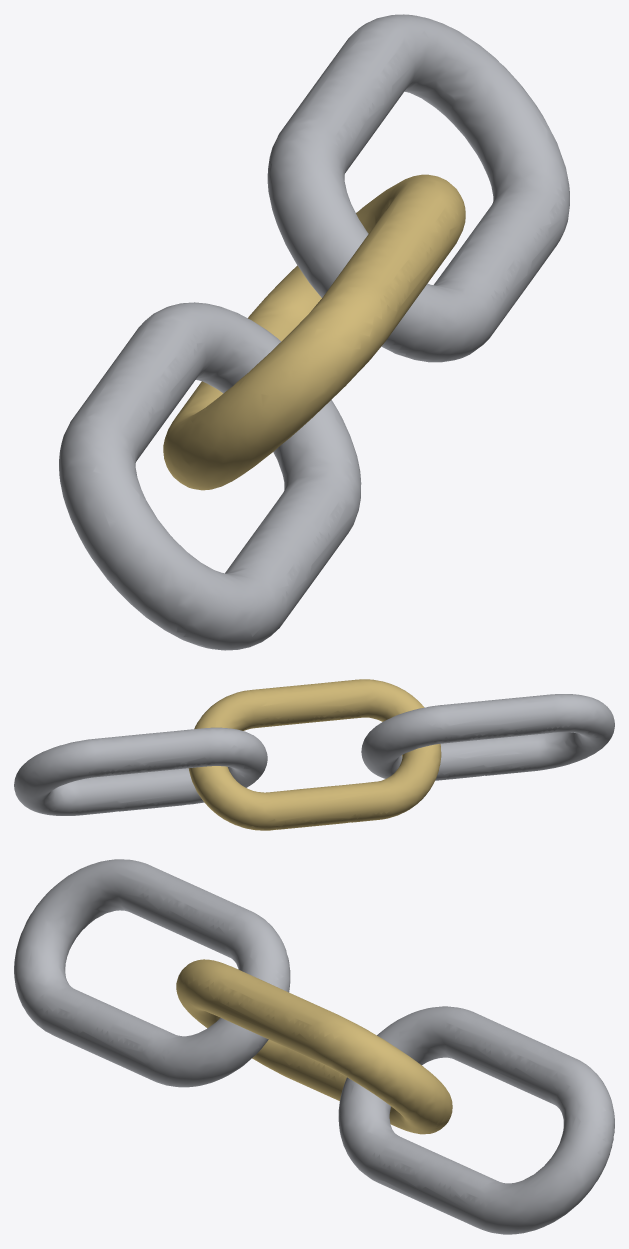
Rendered from chain.glb.
3 views of the same model, one above another, from view 1: azimuth 30°, elevation 25°; view 2: azimuth 150°, elevation 25°; view 3: azimuth 270°, elevation 25° (orthographic). The views are drawn at different scales.
Visible parts, largest first — view 1: chain; view 2: chain; view 3: chain.
Part boxes in pixels (left/top/right/bottom): chain: left=59, top=14, right=569, bottom=650; chain: left=14, top=679, right=614, bottom=830; chain: left=14, top=859, right=614, bottom=1234.
Bounding box in the file's own units: 0.0867 × 0.0211 × 0.0821.
